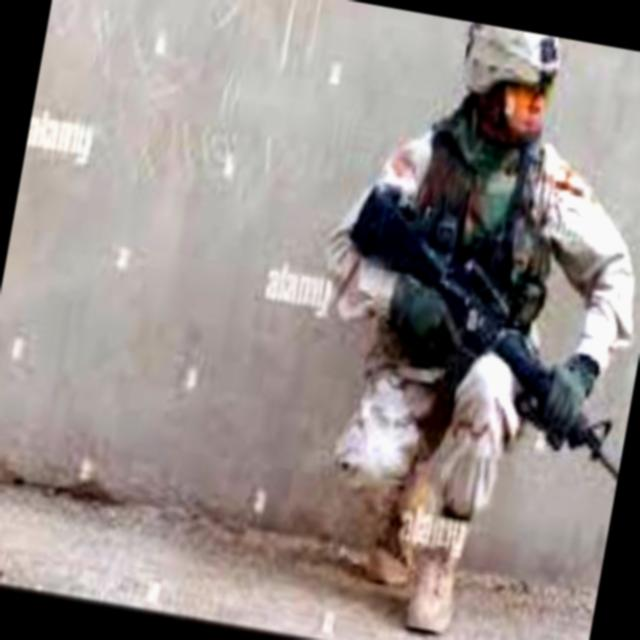m16: (308, 141, 640, 478)
